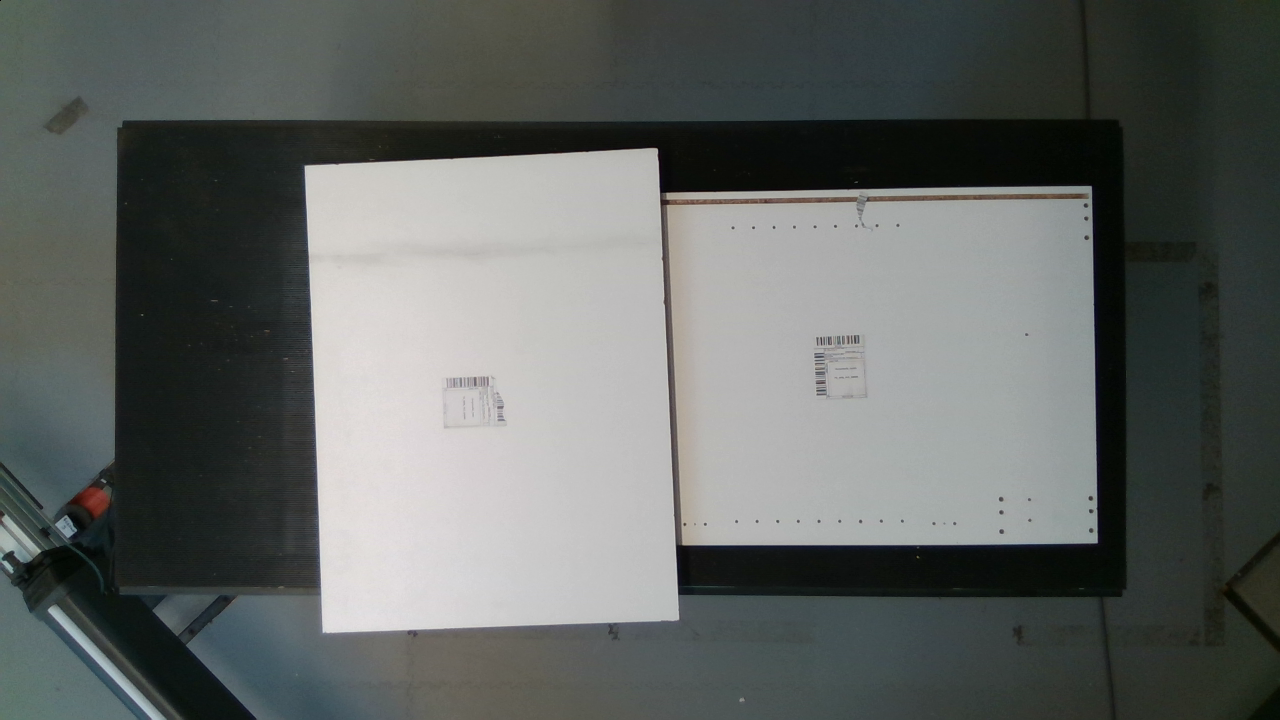barcode: (433, 360, 528, 438), (808, 322, 884, 406)
part2: (281, 132, 691, 651)
